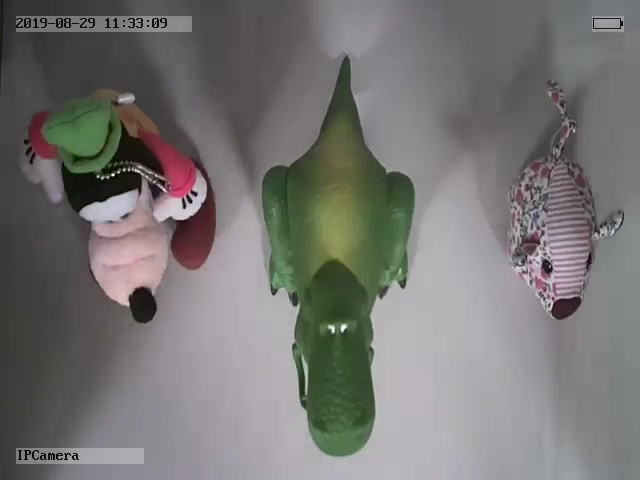goofy: (18, 86, 215, 325)
pig: (507, 78, 624, 322)
rex: (259, 53, 416, 459)
